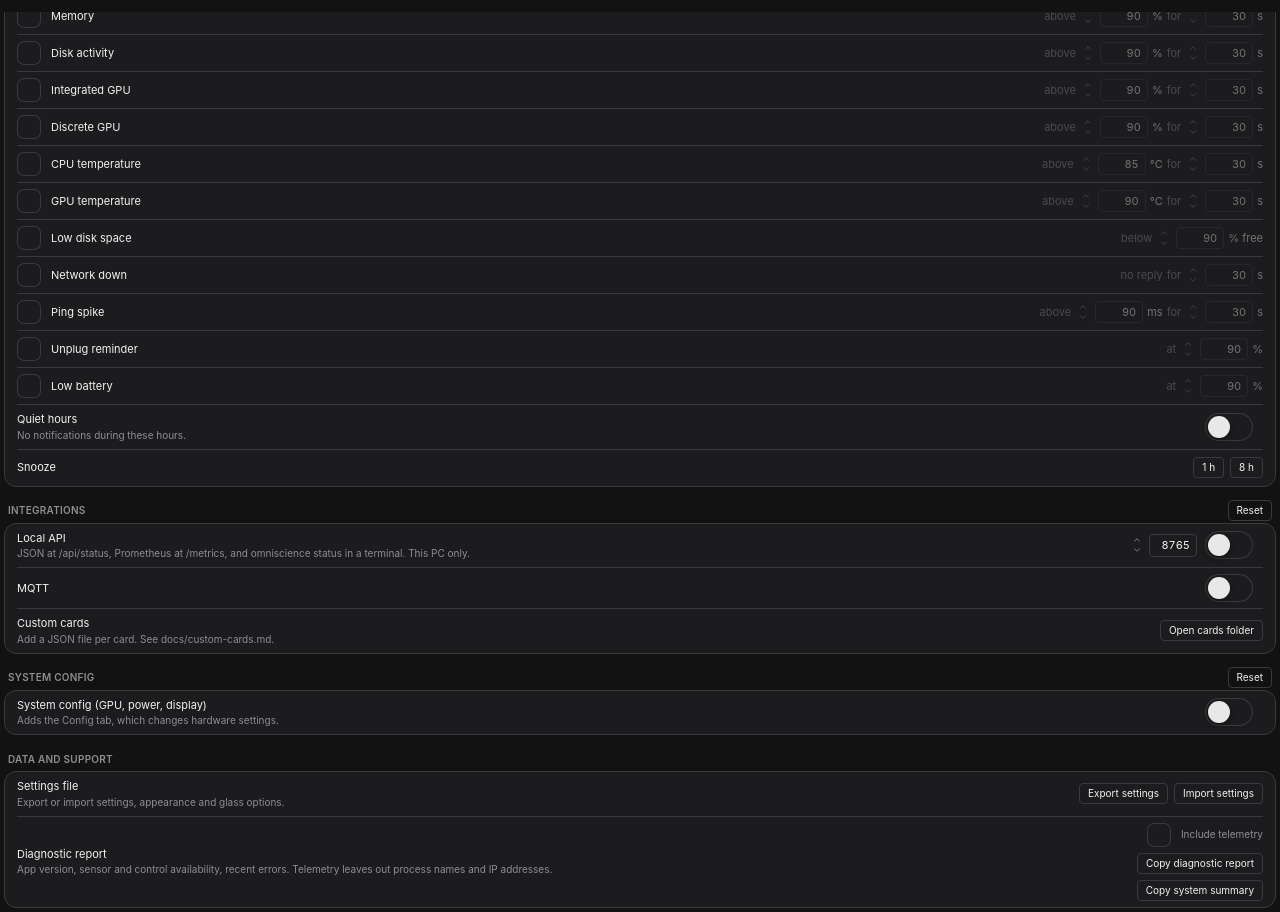
Test case: settings tools › copies the system summary
The image size is (1280, 912).
(page scrolled)
Click the button "Copy system summary".
click(1200, 890)  # box [1137,880,1263,900]
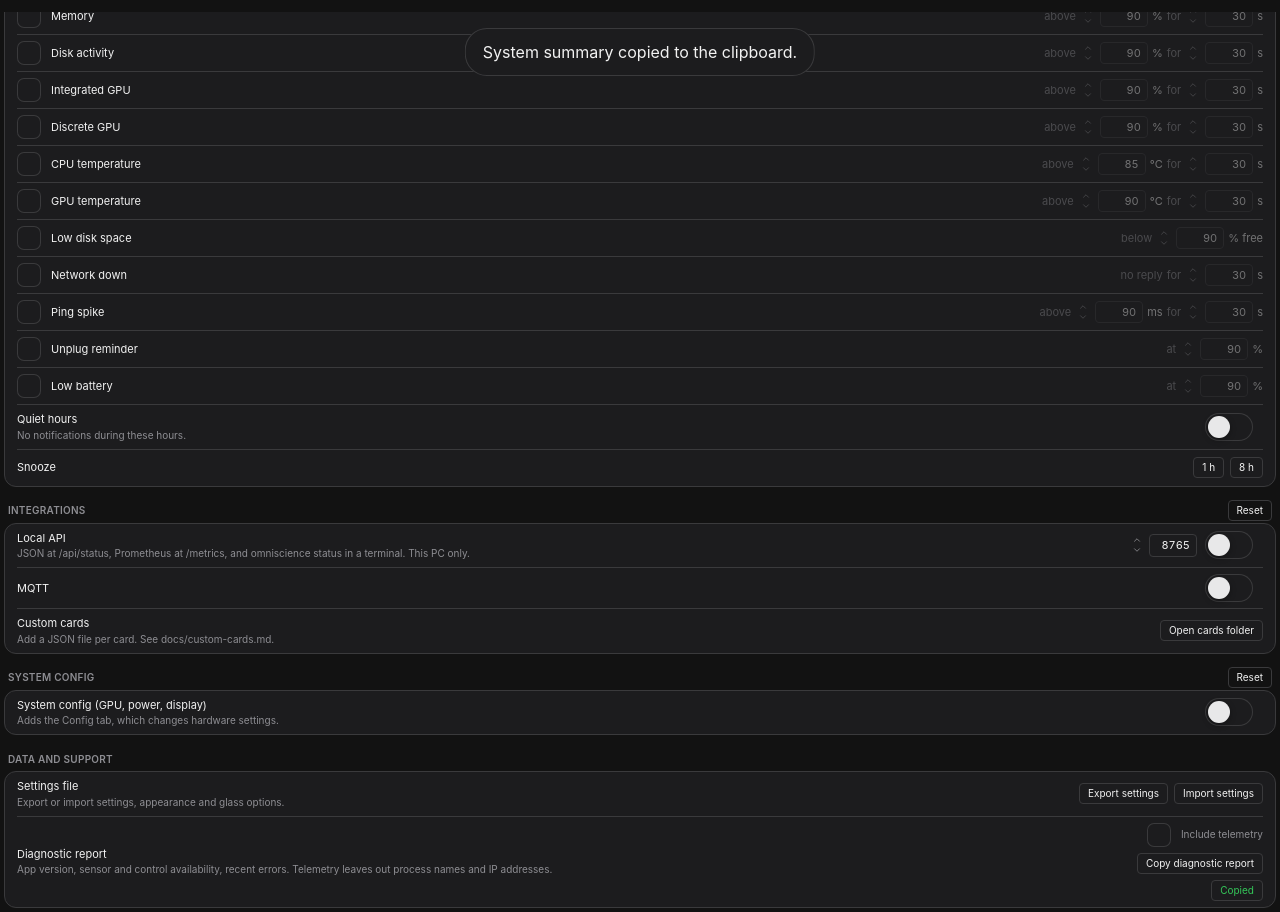
Expected: the text "System summary copied to the clipboard." is shown, [483,40,797,64]
